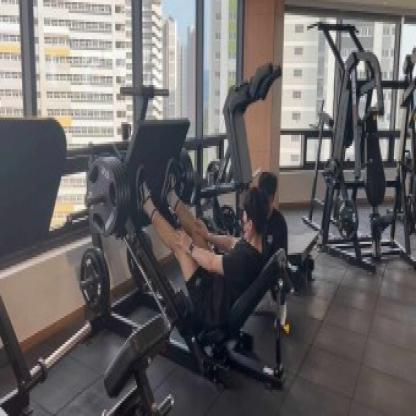leg press: (60, 79, 307, 395)
